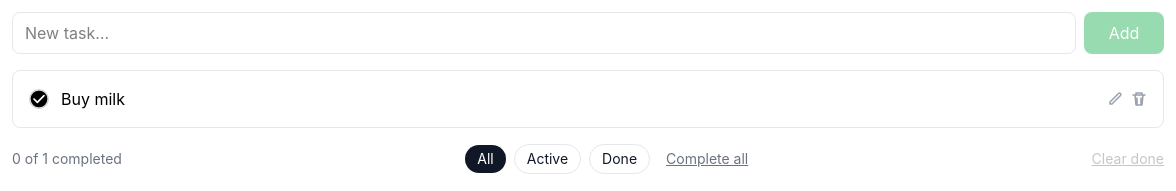
Scenario: TaskList › shows the generic toast when a single-item complete fails
Click the button named "mark complete" at {"x": 39, "y": 99}, box [29,89,49,109]
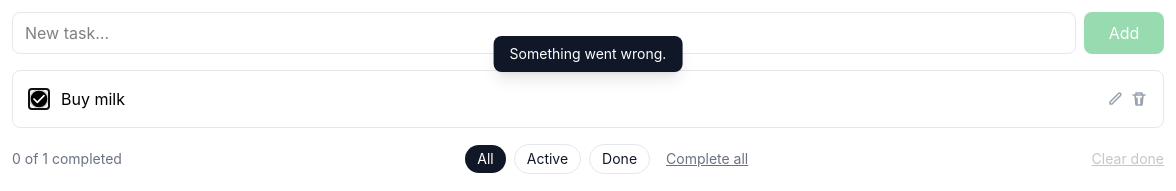
Expected: the message reads "Something went wrong.", [510,45,666,62]
